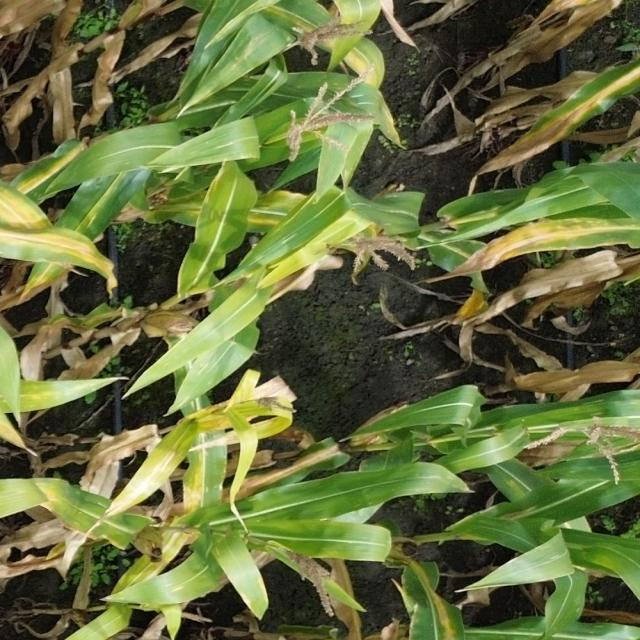gray-leaf-spot: (178, 470, 218, 509)
northern-leaf-blight: (483, 65, 638, 148), (249, 440, 351, 491), (504, 220, 640, 256), (19, 227, 114, 273), (405, 561, 451, 639), (9, 142, 83, 189), (321, 34, 383, 74), (127, 453, 171, 499), (0, 191, 48, 220), (246, 214, 312, 230)
southern-leaf-blight: (26, 380, 92, 400)
